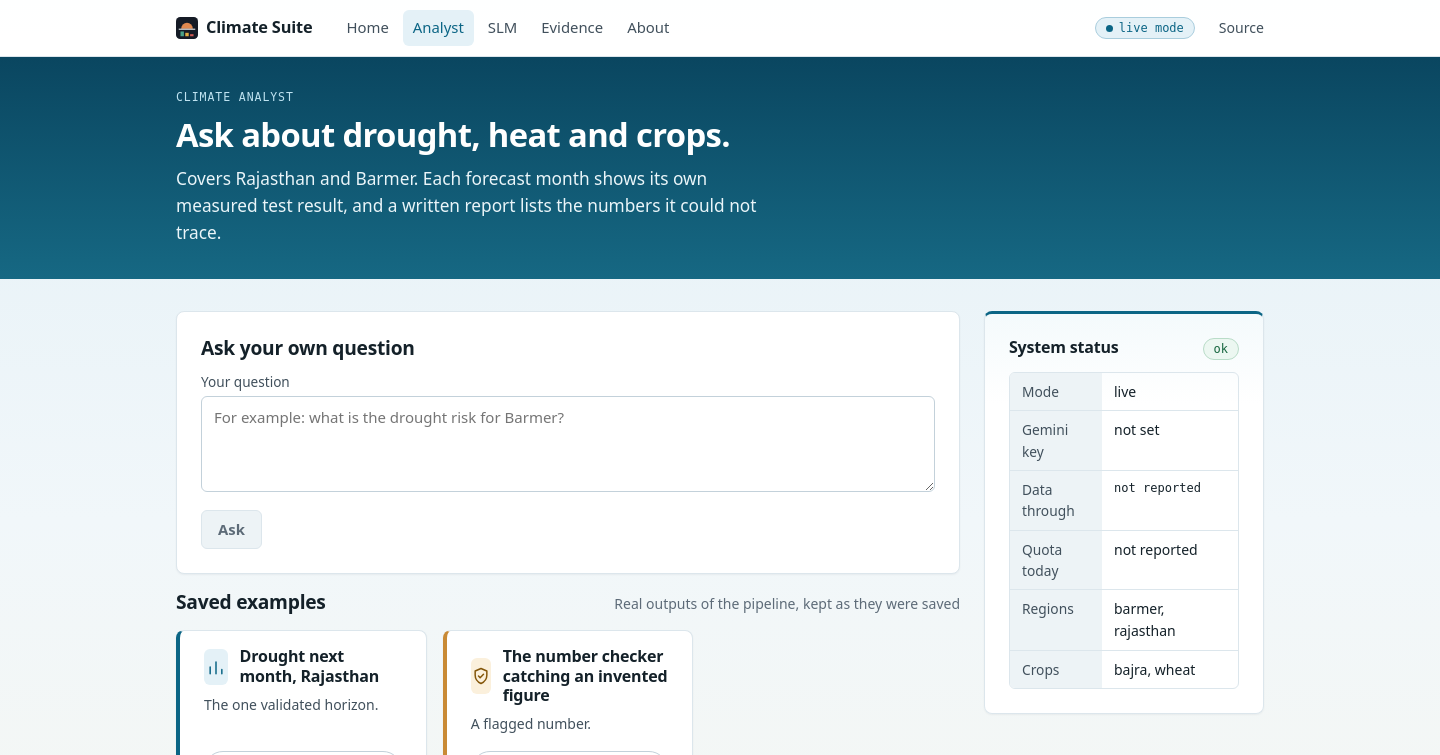
Test: home page › enables the text box in live mode and shows the backend's 409 message as it is
In the text box: {"x": 568, "y": 444} [201,396,935,492], type "will it rain?"
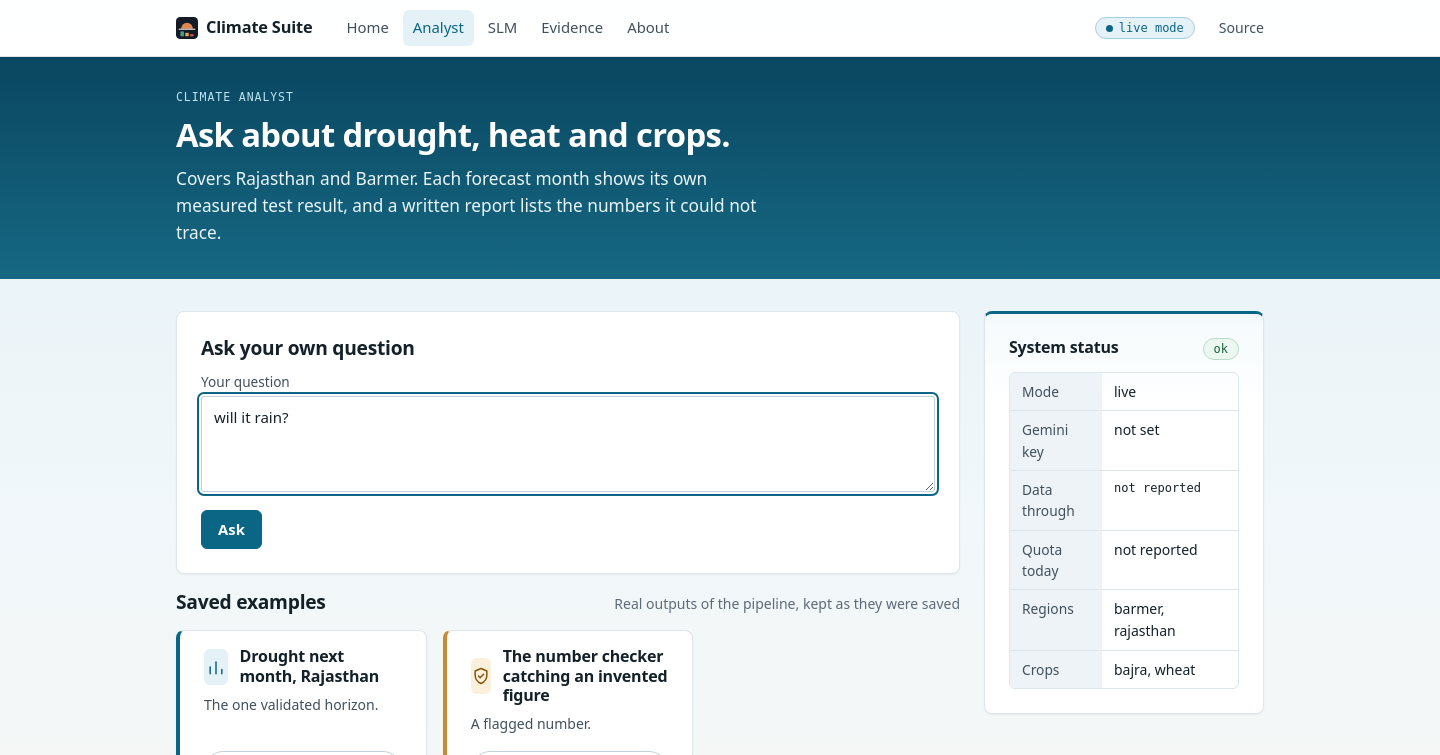
Click the button "Ask": {"x": 231, "y": 529} [201,510,262,549]
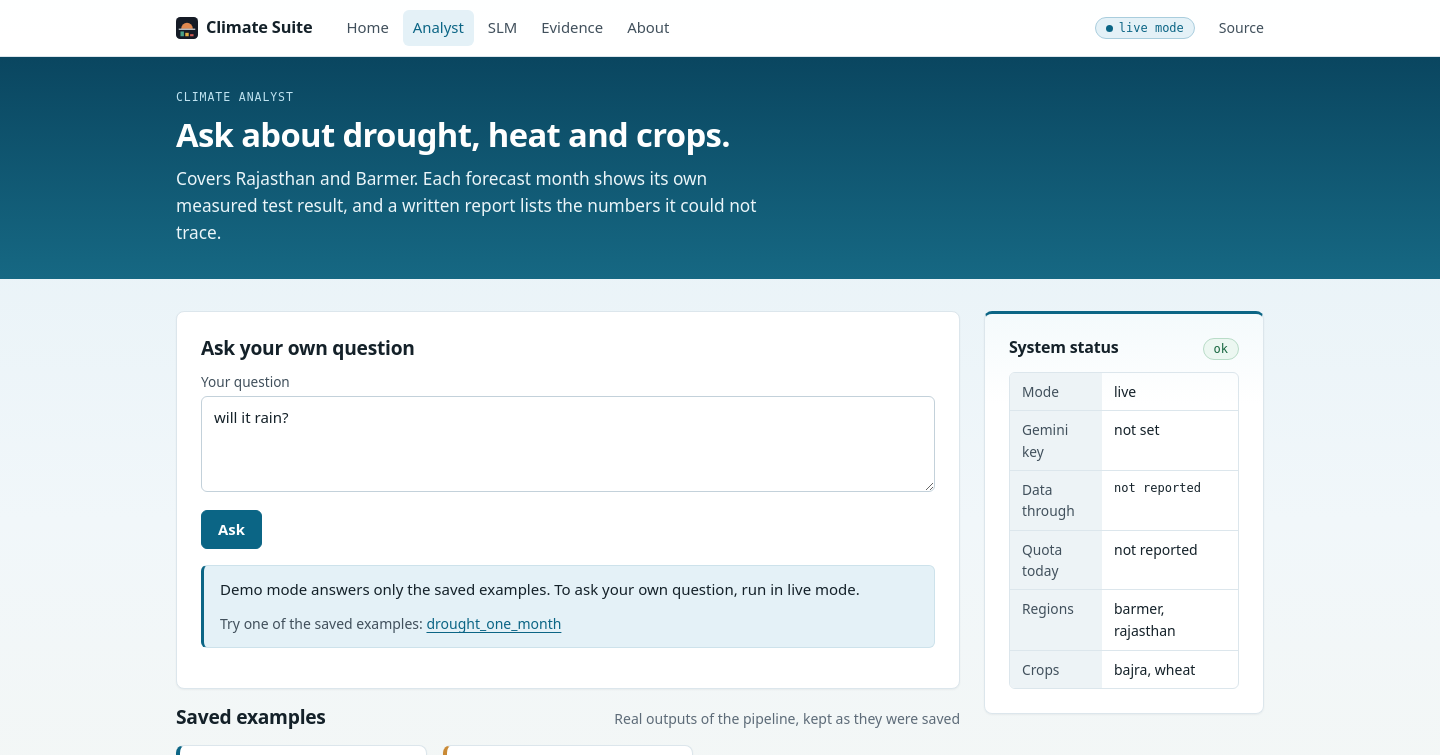
Expected: the message with test id "refusal" shows "Demo mode answers only the saved examples. To ask your own question, run in live mode.", [220,579,860,599]
Expected: the message with test id "refusal" shows "drought_one_month", [426,614,561,633]
